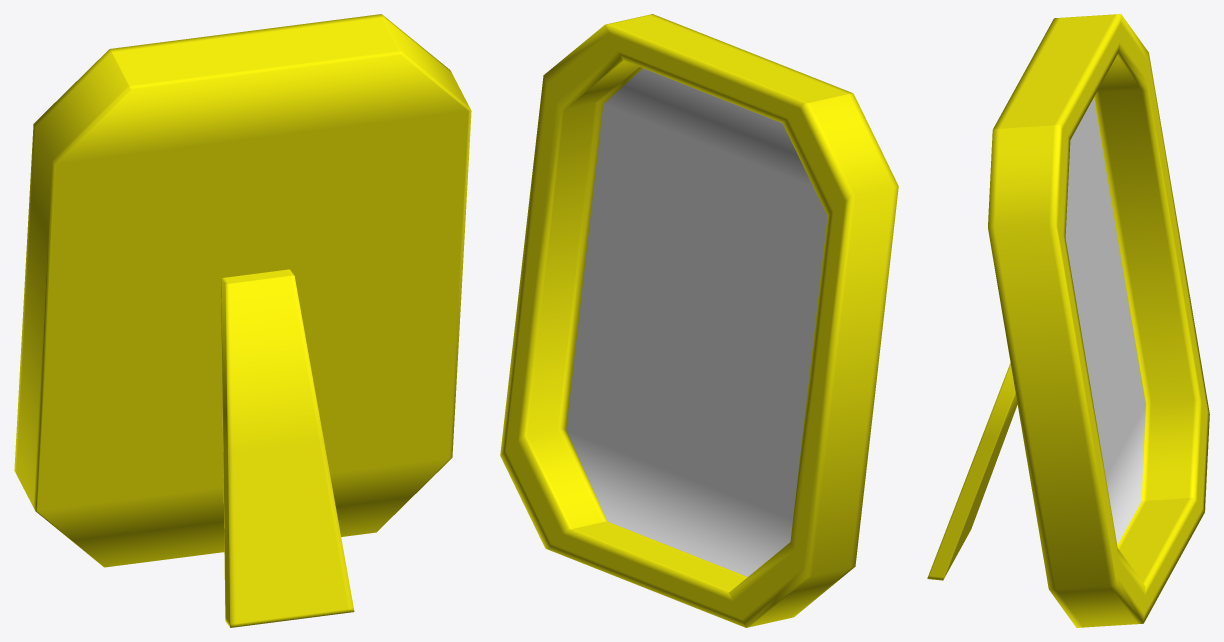
The model's file is Picture frame_02.fbx.
The picture shows the model from 3 angles, left to right: view 1: azimuth 30°, elevation 25°; view 2: azimuth 150°, elevation 25°; view 3: azimuth 270°, elevation 25°; orthographic projection. The views are drawn at different scales.
Visible parts, largest first — view 1: Picture frame.002; view 2: Picture frame.002; view 3: Picture frame.002.
Part boxes in pixels (box(x1,y1,x2,y2)): Picture frame.002: box(14, 14, 471, 627); Picture frame.002: box(500, 14, 898, 627); Picture frame.002: box(927, 14, 1209, 627).
Size of the model in its own units: 28.55 by 36.35 by 18.6.
